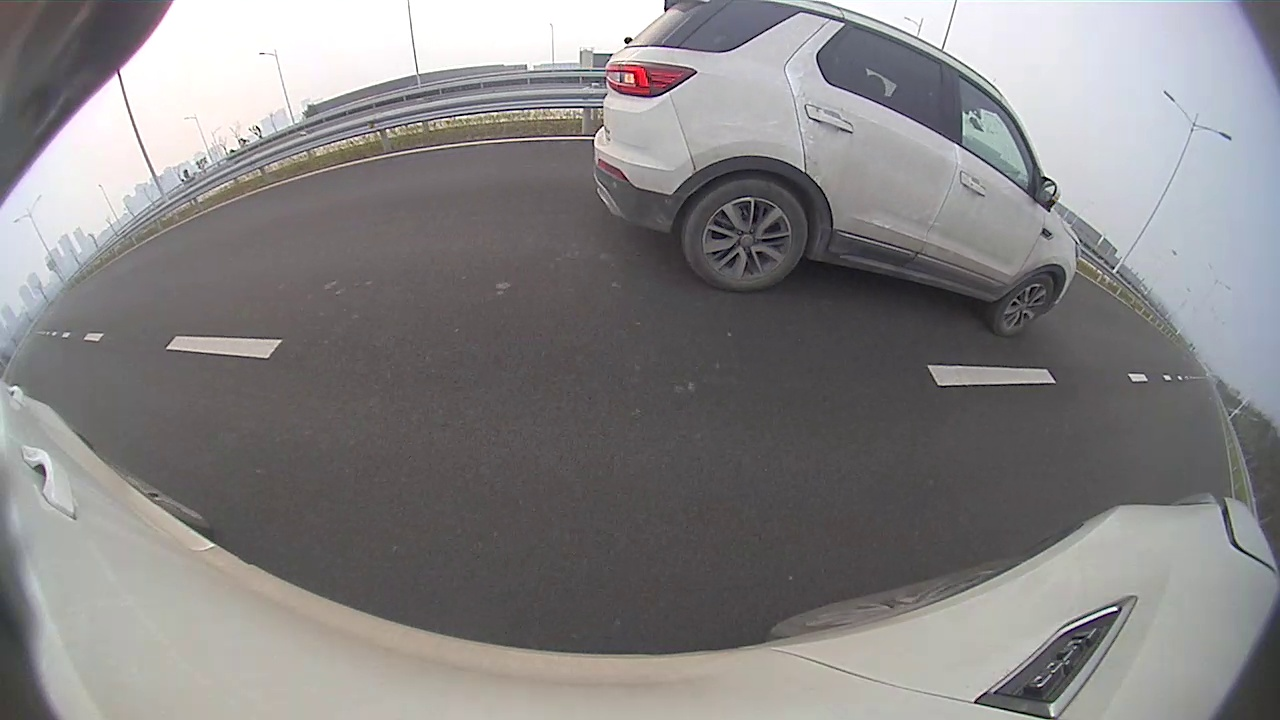car: (593, 2, 1082, 338)
front: (996, 271, 1057, 338)
rear: (688, 178, 810, 293)
